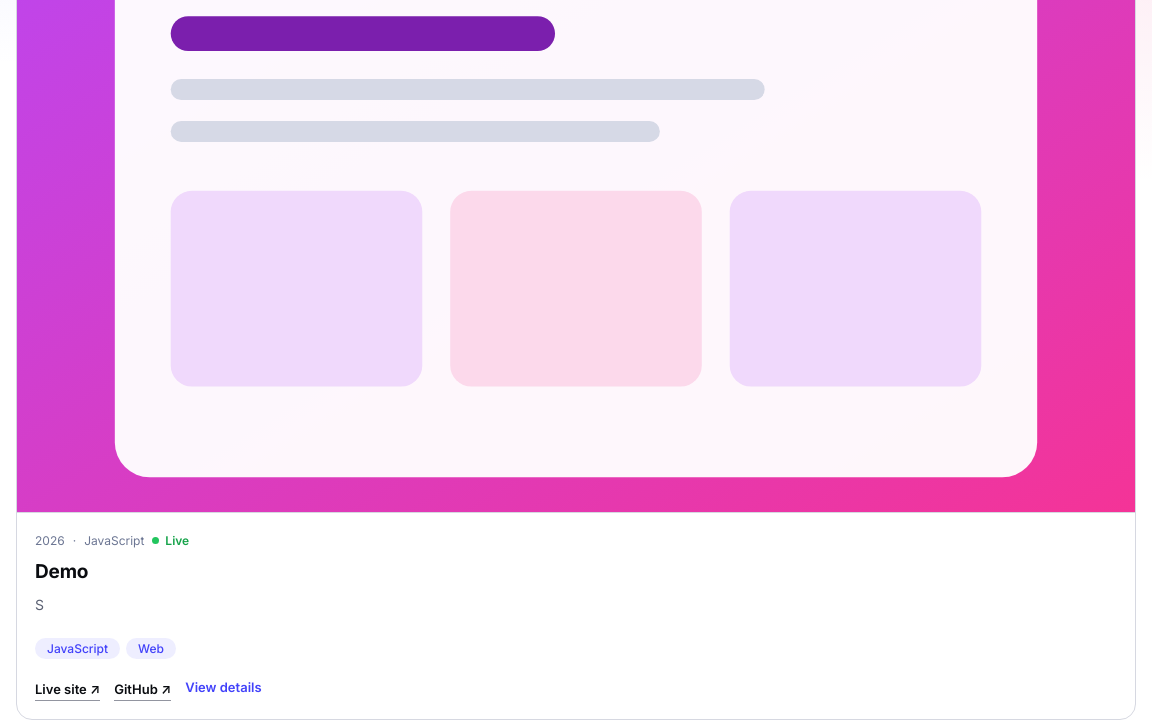
it: ProjectCard › shows links and toggles details
(page scrolled)
Expected: the text "Live" is shown, [152,531,189,550]
Expected: the text "Stk" is not shown
Click the button "View details" at point(223, 687), box [185,679,262,695]
(page scrolled)
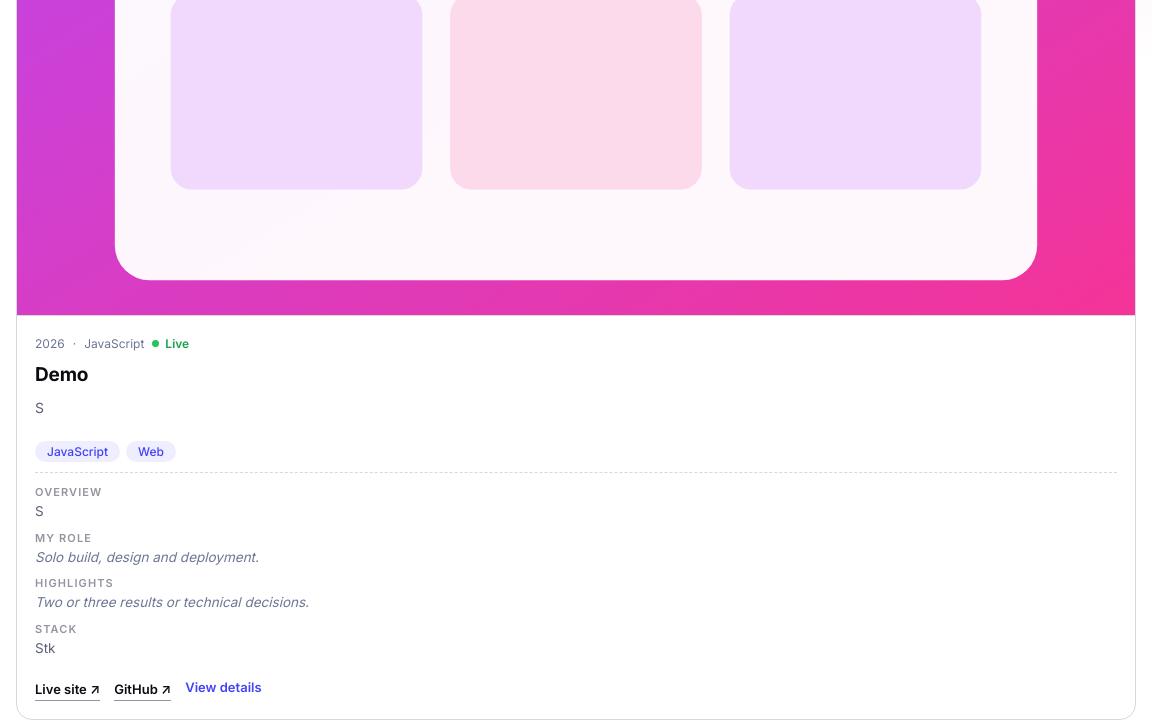
Now the text "Stk" is shown, box [35,640,56,656]
